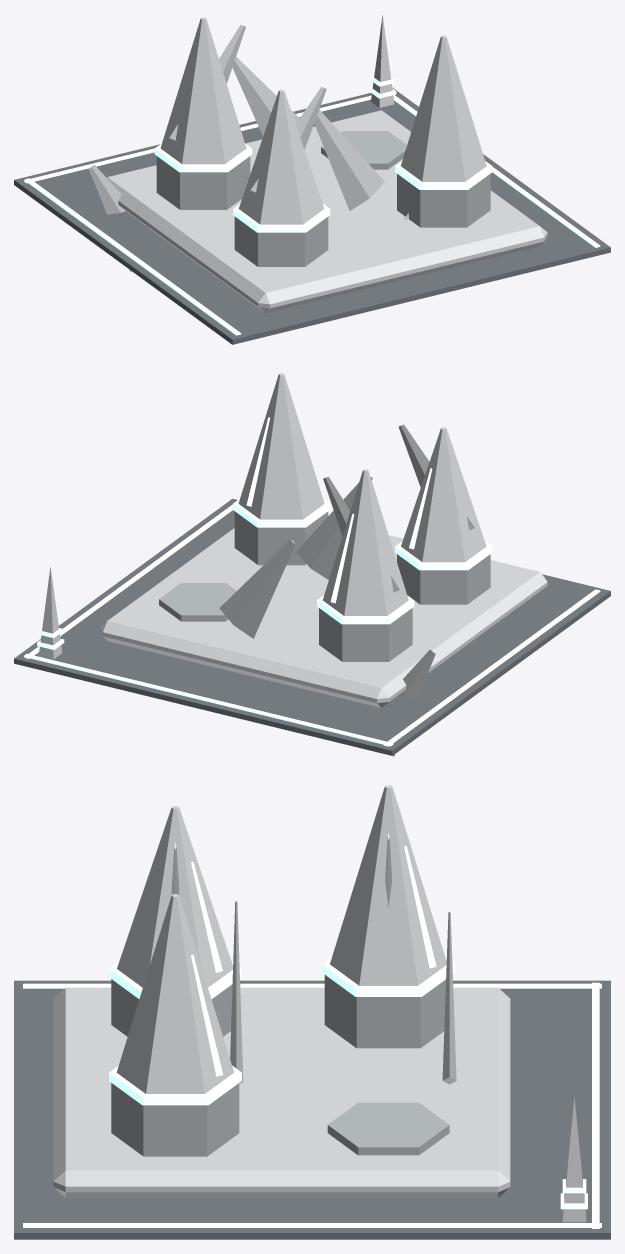
The model's file is zone_low_4_t2.glb.
3 renders of one model, top to bottom at view 1: azimuth 30°, elevation 25°; view 2: azimuth 150°, elevation 25°; view 3: azimuth 270°, elevation 25°, orthographic. The views are drawn at different scales.
Parts seen in each view (by area): view 1: zone_low_4_t2, detail; view 2: zone_low_4_t2, detail; view 3: zone_low_4_t2, detail.
Part boxes in pixels (<box>): zone_low_4_t2: <box>14,17,610,344</box>; detail: <box>24,15,600,335</box>; zone_low_4_t2: <box>14,373,610,756</box>; detail: <box>24,504,600,746</box>; zone_low_4_t2: <box>14,785,610,1239</box>; detail: <box>23,982,601,1228</box>.
Size of the model in its own units: 19.6 by 12.76 by 19.6.
